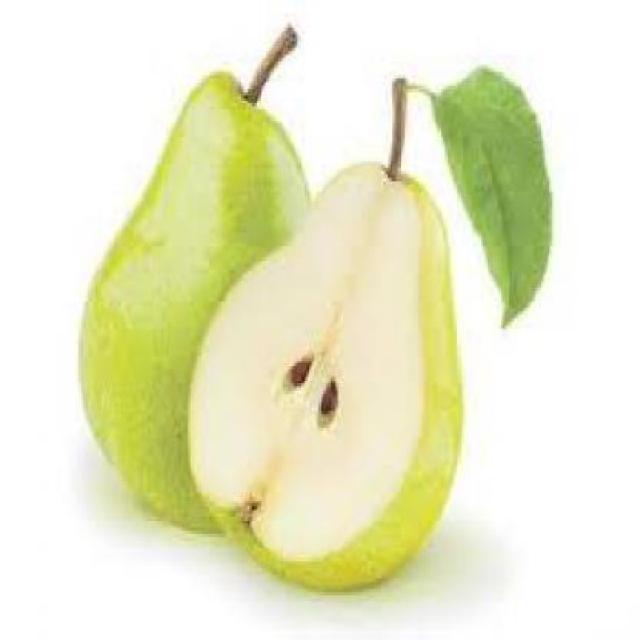BIODEGRADABLE: (183, 79, 460, 582), (76, 24, 315, 530), (430, 61, 550, 325)
